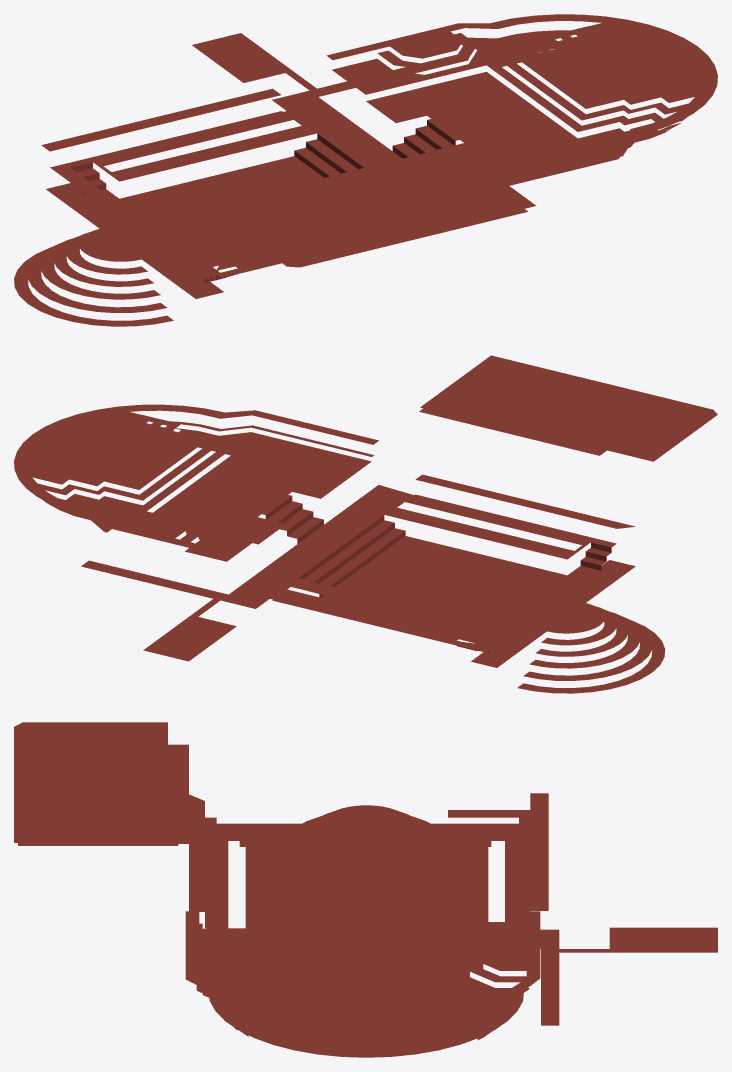
Rendered from pod_tepih.obj.
3 views of the same model, one above another, from view 1: azimuth 30°, elevation 25°; view 2: azimuth 150°, elevation 25°; view 3: azimuth 270°, elevation 25° (orthographic). The views are drawn at different scales.
Bounding box in the file's own units: 17.6 × 3.45 × 15.38.
